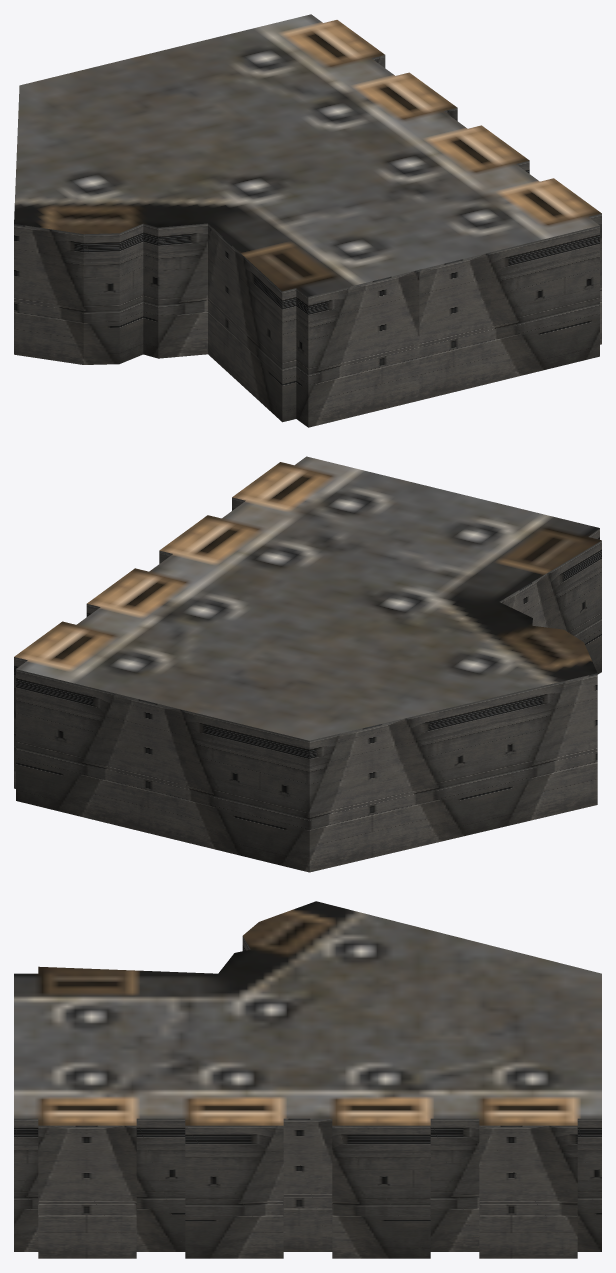
The model's file is fortress_medium_a_41.glb.
The picture shows the model from 3 angles, top to bottom: view 1: azimuth 30°, elevation 25°; view 2: azimuth 150°, elevation 25°; view 3: azimuth 270°, elevation 25°; orthographic projection.
Parts seen in each view (by area): view 1: buildings/saxarba/fortress_medium/fortress_medium_a_41; view 2: buildings/saxarba/fortress_medium/fortress_medium_a_41; view 3: buildings/saxarba/fortress_medium/fortress_medium_a_41.
Part boxes in pixels (<box>): buildings/saxarba/fortress_medium/fortress_medium_a_41: <box>14,14,601,427</box>; buildings/saxarba/fortress_medium/fortress_medium_a_41: <box>14,456,601,872</box>; buildings/saxarba/fortress_medium/fortress_medium_a_41: <box>14,901,601,1258</box>.
Bounding box in the file's own units: 65 × 18 × 72.
